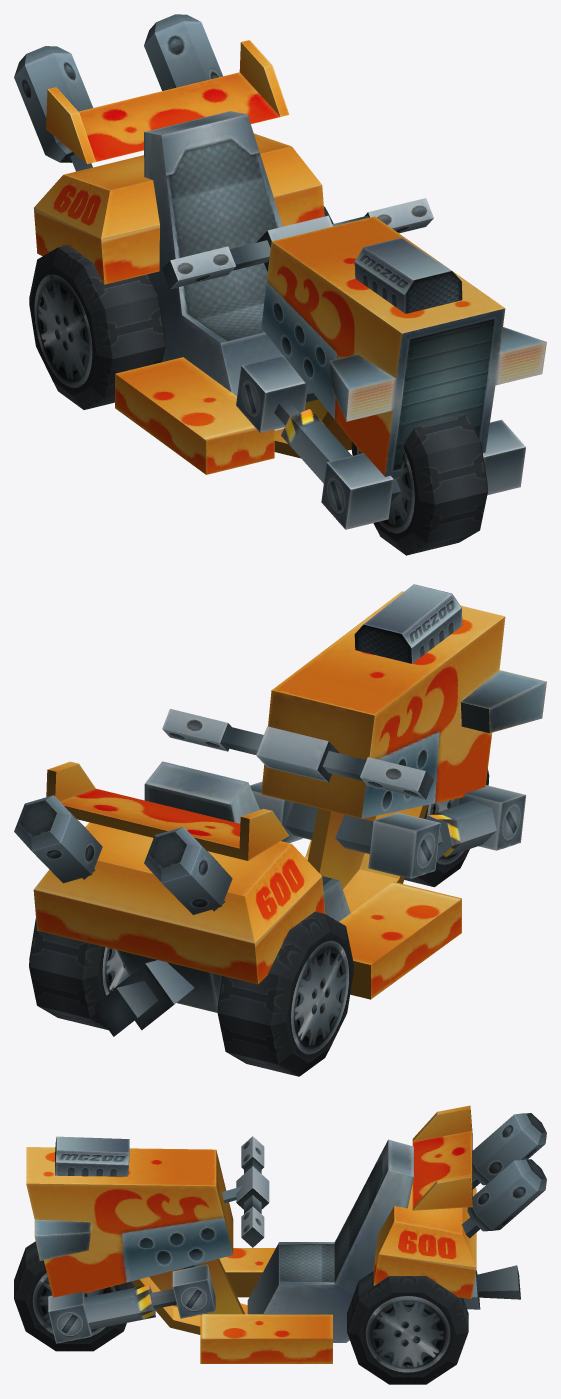
The model's file is Bea_AI.glb.
3 views of the same model, one above another, from view 1: azimuth 30°, elevation 25°; view 2: azimuth 150°, elevation 25°; view 3: azimuth 270°, elevation 25° (orthographic). The views are drawn at different scales.
Parts seen in each view (by area): view 1: kart_bea, right_wheel, front_wheel; view 2: kart_bea, right_wheel, left_wheel, front_wheel; view 3: kart_bea, left_wheel, front_wheel.
Part boxes in pixels (x1=…): kart_bea: x1=14, y1=14, x2=546, y2=529; right_wheel: x1=29, y1=245, x2=165, y2=409; front_wheel: x1=351, y1=415, x2=487, y2=555; kart_bea: x1=14, y1=584, x2=546, y2=1036; right_wheel: x1=217, y1=911, x2=353, y2=1076; left_wheel: x1=29, y1=918, x2=128, y2=1030; front_wheel: x1=404, y1=769, x2=489, y2=887; kart_bea: x1=26, y1=1105, x2=546, y2=1363; left_wheel: x1=347, y1=1271, x2=468, y2=1384; front_wheel: x1=14, y1=1241, x2=135, y2=1351.
Size of the model in its own units: 1.89 by 1.98 by 4.66.
Materials: 2 (2 with a texture image).
